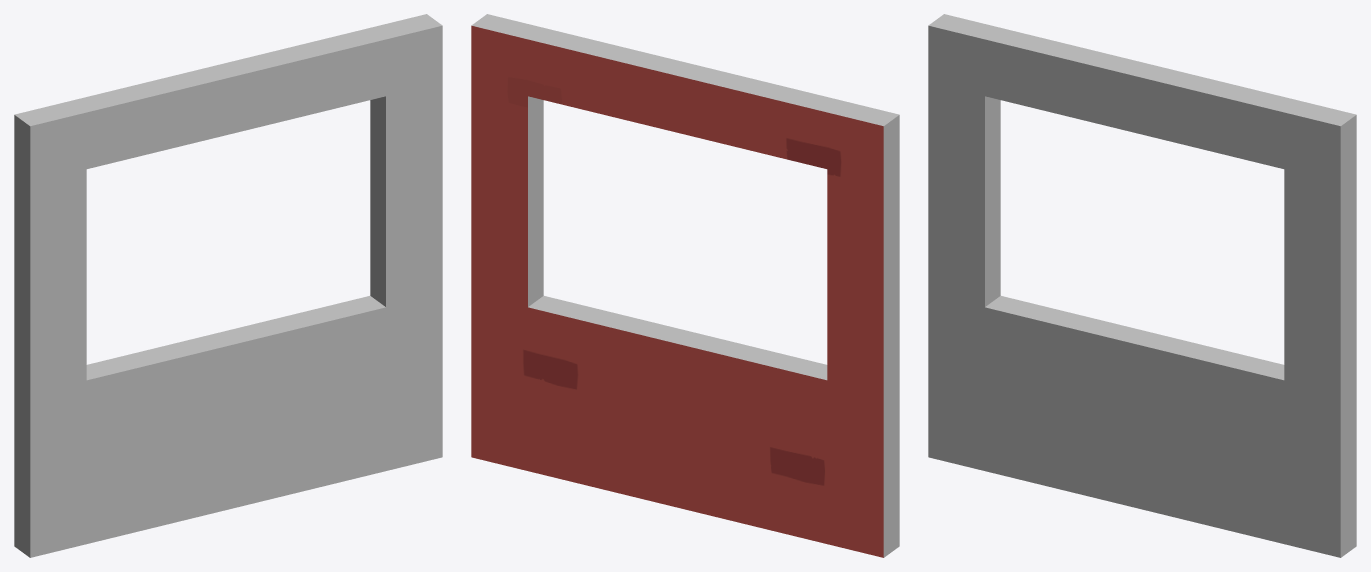
Rendered from Wh_Window_Regular_Empty.fbx.
3 renders of one model, left to right at view 1: azimuth 30°, elevation 25°; view 2: azimuth 150°, elevation 25°; view 3: azimuth 330°, elevation 25°, orthographic.
Parts seen in each view (by area): view 1: Cube.049; view 2: Cube.049; view 3: Cube.049.
Boxes of the visible parts, x1,y1,x2,y2 form: Cube.049: (14,14,442,557); Cube.049: (471,14,899,557); Cube.049: (928,14,1356,557).
Size of the model in its own units: 300 by 300 by 20.
